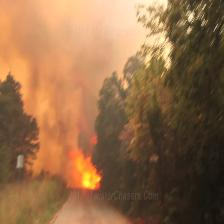fire: (43, 124, 130, 204)
smoke: (0, 0, 153, 112)
